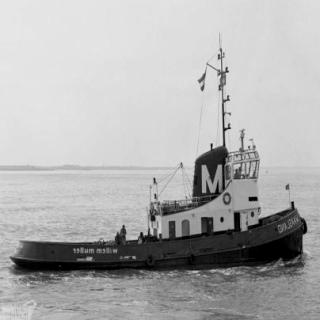Tug Boat: (10, 73, 312, 267)
